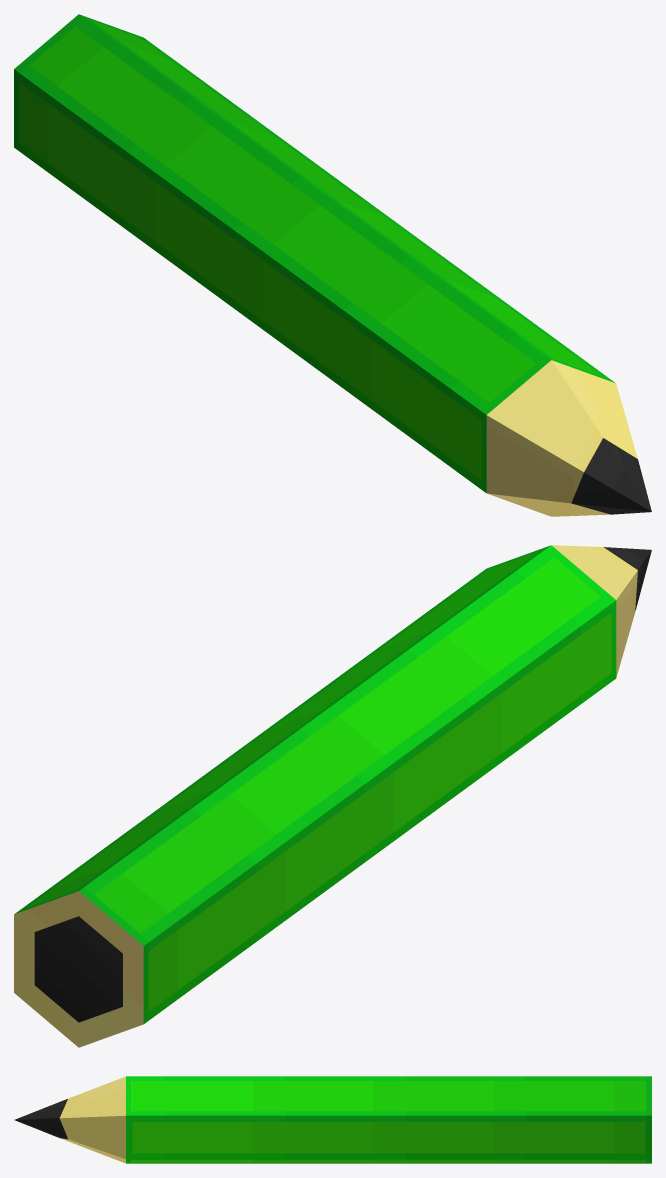
File: pens.fbx
3 renders of one model, top to bottom at view 1: azimuth 30°, elevation 25°; view 2: azimuth 150°, elevation 25°; view 3: azimuth 270°, elevation 25°, orthographic. The views are drawn at different scales.
Parts seen in each view (by area): view 1: pen1; view 2: pen1; view 3: pen1.
Part boxes in pixels (x1=…): pen1: x1=14, y1=14, x2=651, y2=516; pen1: x1=14, y1=545, x2=651, y2=1047; pen1: x1=14, y1=1076, x2=651, y2=1163.
Size of the model in its own units: 16.02 by 18.49 by 123.
